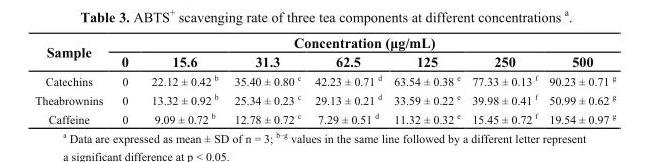table: (34, 34, 615, 125)
table column: (139, 34, 225, 125), (225, 34, 307, 125), (307, 34, 387, 125), (387, 34, 465, 125), (34, 34, 111, 125), (465, 34, 542, 125), (542, 34, 615, 125), (111, 34, 139, 125)
table column header: (34, 34, 615, 71)
table row: (34, 51, 615, 71), (34, 89, 615, 108), (34, 71, 615, 89), (34, 34, 615, 51), (34, 108, 615, 125)
table spanning cell: (111, 34, 615, 51), (34, 34, 111, 71)
